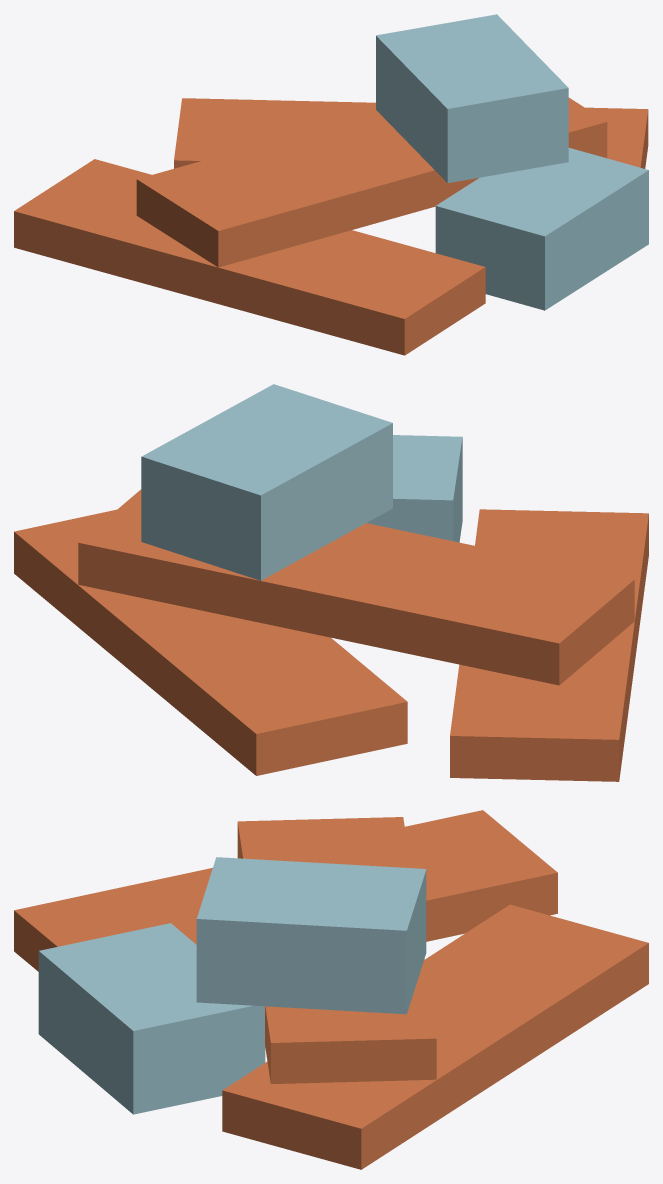
The model's file is debris.obj.
3 views of the same model, one above another, from view 1: azimuth 30°, elevation 25°; view 2: azimuth 150°, elevation 25°; view 3: azimuth 270°, elevation 25° (orthographic). The views are drawn at different scales.
Visible parts, largest first — view 1: debrisWood, debris; view 2: debrisWood, debris; view 3: debrisWood, debris.
Part boxes in pixels (box(x1,y1,x2,y2)): debrisWood: box(14, 97, 648, 355); debris: box(376, 14, 648, 310); debrisWood: box(14, 489, 648, 781); debris: box(141, 384, 462, 580); debrisWood: box(14, 810, 648, 1169); debris: box(38, 857, 426, 1114).
Bounding box in the file's own units: 0.6544 × 0.16 × 0.5509.
